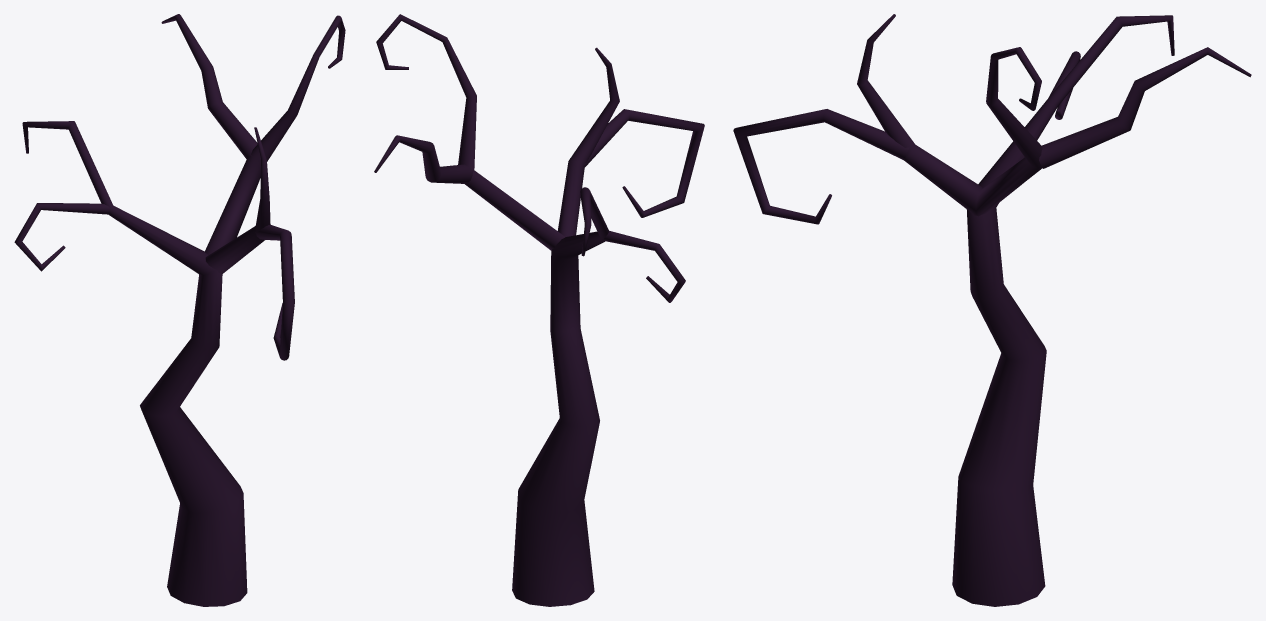
Rendered from arbre1_violet.fbx.
3 renders of one model, left to right at view 1: azimuth 30°, elevation 25°; view 2: azimuth 150°, elevation 25°; view 3: azimuth 270°, elevation 25°, orthographic. The views are drawn at different scales.
Parts seen in each view (by area): view 1: Vert; view 2: Vert; view 3: Vert.
Part boxes in pixels (left/top/right/bottom): Vert: left=14, top=14, right=345, bottom=606; Vert: left=374, top=14, right=704, bottom=606; Vert: left=733, top=14, right=1251, bottom=606.
Size of the model in its own units: 195 by 317 by 240.
